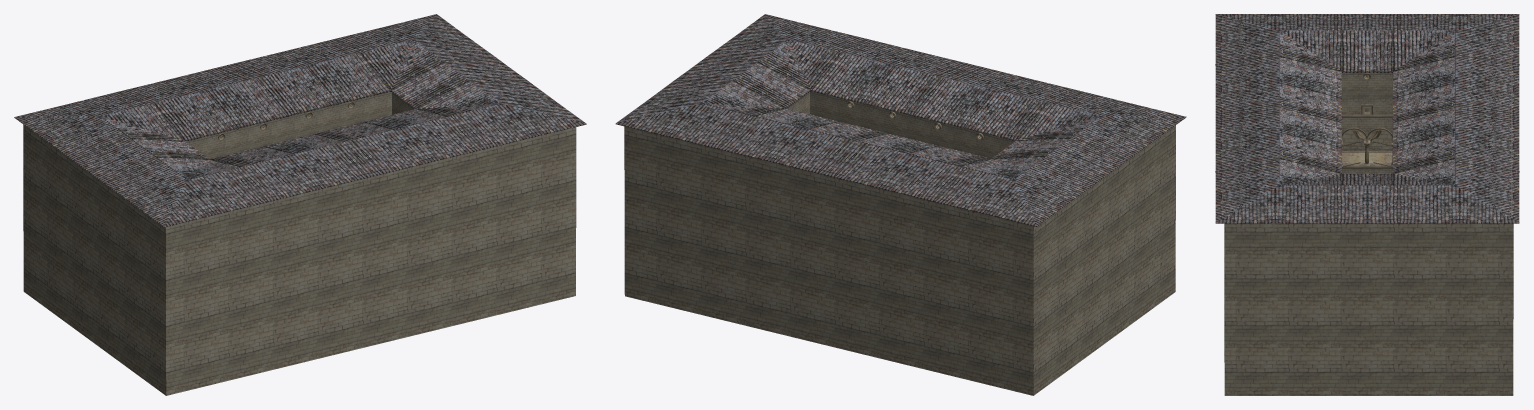
The model's file is Sponza.gltf.
3 renders of one model, left to right at view 1: azimuth 30°, elevation 25°; view 2: azimuth 150°, elevation 25°; view 3: azimuth 270°, elevation 25°, orthographic.
Bounding box in the file's own units: 29.77 × 12.45 × 18.31.
25 materials, 25 textured.
